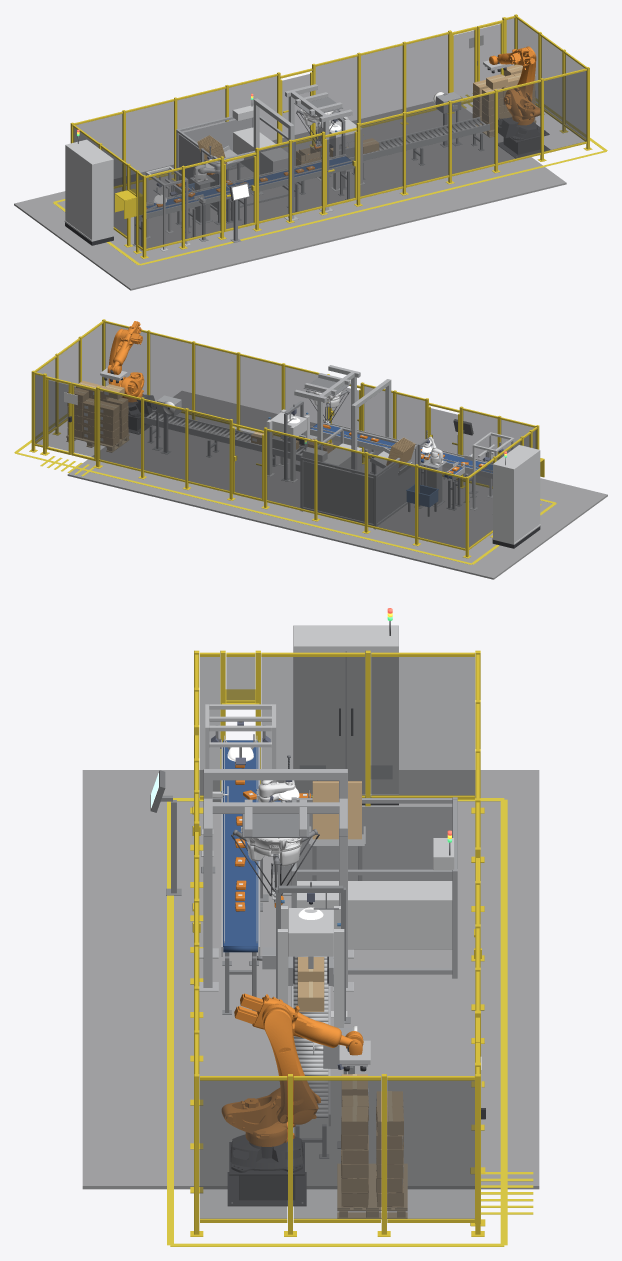
3 views of the same model, one above another, from view 1: azimuth 30°, elevation 25°; view 2: azimuth 150°, elevation 25°; view 3: azimuth 270°, elevation 25° (orthographic). The views are drawn at different scales.
Visible parts, largest first — view 1: Пол, Ограждение юг C: сетка, Ограждение север A: сетка, Ограждение север B: сетка, Ограждение юг A: сетка, Шкаф управления, Ограждение юг B: сетка, Ограждение восток: сетка, Дельта: портал, Ворота выхода паллет: сетка, Эректор: панели, Дверь обслуживания 2: сетка (+35 smaller); view 2: Пол, Ограждение север A: сетка, Ограждение юг C: сетка, Ограждение север B: сетка, Эректор: панели, Шкаф управления, Ограждение восток: сетка, Ворота выхода паллет: сетка, Дельта: портал, Ограждение юг B: сетка, Ограждение юг A: сетка, Дверь обслуживания 3: сетка (+32 smaller); view 3: Пол, Ограждение восток: сетка, Ограждение запад B: сетка, Шкаф управления, Разметка пола, Эректор: корпус механики, Дельта: портал, Эректор: панели, Лента пачек: лента, Ограждение восток: стойки, Эректор: станина, KR120 R2500: link_2 (+17 smaller).
Boxes of the visible parts, box(x1,y1,x2,y2) form: Пол: box(14, 101, 566, 290); Ограждение юг C: сетка: box(360, 71, 586, 196); Ограждение север A: сетка: box(74, 76, 277, 186); Ограждение север B: сетка: box(315, 34, 448, 133); Ограждение юг A: сетка: box(146, 160, 220, 248); Шкаф управления: box(64, 139, 114, 241); Ограждение юг B: сетка: box(259, 135, 322, 221); Ограждение восток: сетка: box(516, 19, 585, 138); Дельта: портал: box(251, 84, 352, 220); Ворота выхода паллет: сетка: box(453, 24, 500, 98); Эректор: панели: box(178, 118, 252, 208); Дверь обслуживания 2: сетка: box(327, 133, 354, 204); Пол: box(67, 391, 607, 579); Ограждение север A: сетка: box(266, 431, 465, 548); Ограждение юг C: сетка: box(105, 323, 326, 439); Ограждение север B: сетка: box(99, 390, 229, 490); Эректор: панели: box(303, 450, 414, 523); Шкаф управления: box(492, 445, 540, 544); Ограждение восток: сетка: box(35, 324, 103, 440); Ворота выхода паллет: сетка: box(48, 380, 94, 457); Дельта: портал: box(294, 365, 391, 473); Ограждение юг B: сетка: box(363, 386, 425, 462); Ограждение юг A: сетка: box(462, 410, 535, 485); Дверь обслуживания 3: сетка: box(234, 429, 261, 498); Пол: box(82, 770, 539, 1189); Ограждение восток: сетка: box(200, 1080, 474, 1218); Ограждение запад B: сетка: box(261, 657, 474, 795); Шкаф управления: box(293, 625, 398, 797); Разметка пола: box(167, 798, 533, 1246); Эректор: корпус механики: box(297, 838, 454, 949); Дельта: портал: box(199, 769, 353, 991); Эректор: панели: box(297, 806, 452, 880); Лента пачек: лента: box(223, 740, 258, 946); Ограждение восток: стойки: box(190, 1074, 484, 1236); Эректор: станина: box(291, 797, 457, 978); KR120 R2500: link_2: box(263, 1009, 320, 1124).
Bounding box in the file's own units: 12.84 × 2.5 × 5.2.
